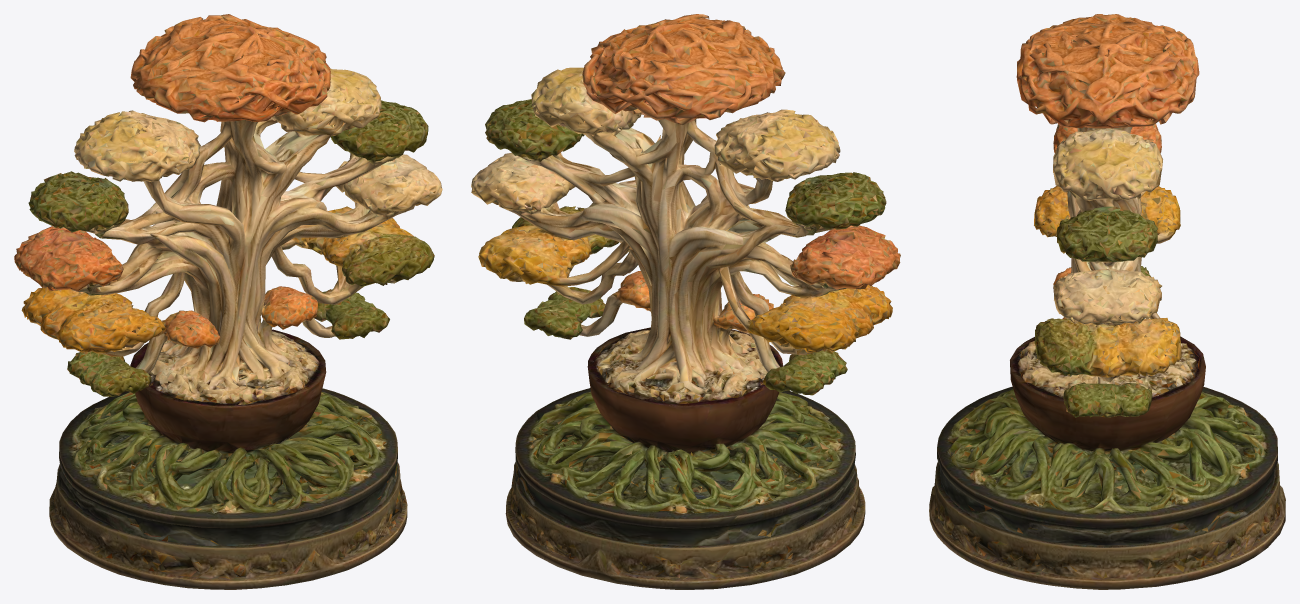
Rendered from Noodle_Tree_of_Life.glb.
3 renders of one model, left to right at view 1: azimuth 30°, elevation 25°; view 2: azimuth 150°, elevation 25°; view 3: azimuth 270°, elevation 25°, orthographic.
Parts seen in each view (by area): view 1: Noodle_Tree_of_Life; view 2: Noodle_Tree_of_Life; view 3: Noodle_Tree_of_Life.
Boxes of the visible parts, x1,y1,x2,y2 form: Noodle_Tree_of_Life: [14, 14, 442, 589]; Noodle_Tree_of_Life: [471, 14, 900, 589]; Noodle_Tree_of_Life: [929, 14, 1285, 589].
Bounding box in the file's own units: 1.67 × 1.9 × 1.26.
Materials: 1 (1 with a texture image).
